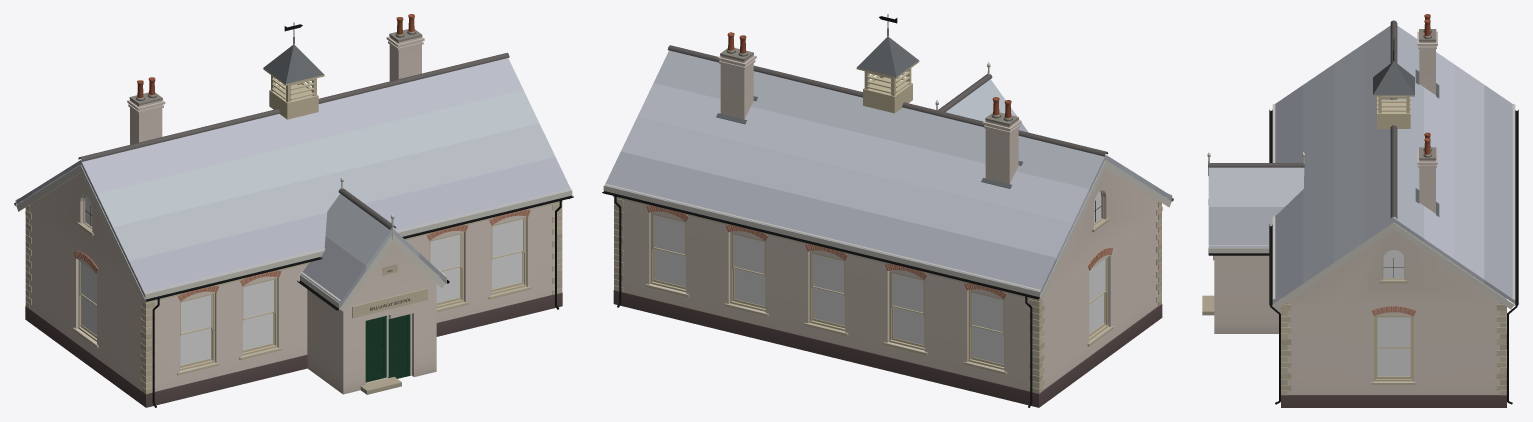
File: town_school_a_lod1.glb
The picture shows the model from 3 angles, left to right: view 1: azimuth 30°, elevation 25°; view 2: azimuth 150°, elevation 25°; view 3: azimuth 270°, elevation 25°; orthographic projection. The views are drawn at different scales.
Parts seen in each view (by area): view 1: body; view 2: body; view 3: body.
Boxes of the visible parts, bbox=[...] form: body: bbox=[14, 14, 573, 407]; body: bbox=[602, 14, 1173, 407]; body: bbox=[1202, 14, 1518, 407].
Size of what is drawn, in the model's own units: 16.48 by 10.7 by 11.27.
